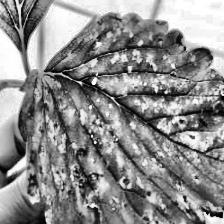Angular Leafspot: (17, 10, 224, 224), (0, 0, 82, 54)
